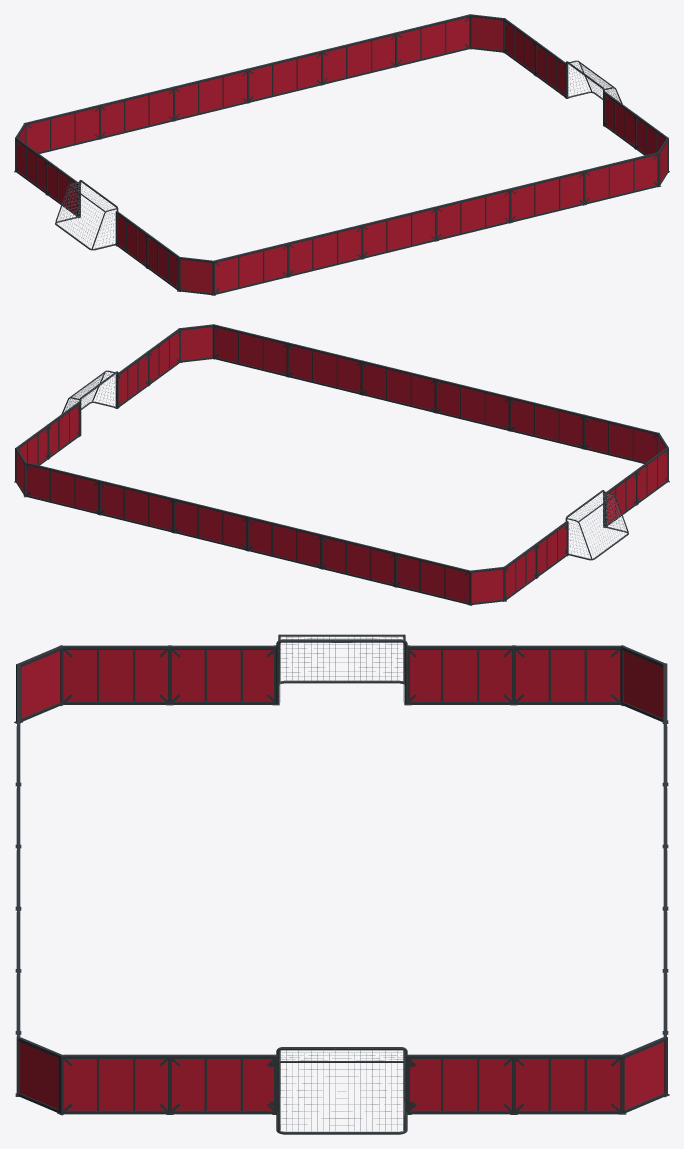
The model's file is street15-r3.glb.
3 views of the same model, one above another, from view 1: azimuth 30°, elevation 25°; view 2: azimuth 150°, elevation 25°; view 3: azimuth 270°, elevation 25° (orthographic). The views are drawn at different scales.
Parts seen in each view (by area): view 1: Panel bandy 110, Panel bandy 38, Panel bandy 10, Panel bandy 31, Panel bandy 45, Panel bandy 24, Panel bandy 17, Panel bandy 138, Panel bandy 117, Panel bandy 124, Panel bandy 131, Panel bandy 145 (+12 smaller); view 2: Panel bandy 110, Panel bandy 138, Panel bandy 45, Panel bandy 145, Panel bandy 131, Panel bandy 124, Panel bandy 117, Panel bandy 17, Panel bandy 24, Panel bandy 38, Panel bandy 31, Panel bandy 10 (+12 smaller); view 3: Panel bandy 90, Panel bandy 190, Panel bandy 165, Panel bandy 65, Panel bandy 183, Panel bandy 172, Panel bandy 72, Panel bandy 83, Bramka wschodnia | siatka 3D, Panel bandy 101, Panel bandy 156, Panel bandy 1 (+4 smaller).
Boxes of the visible parts, left/top/right/bottom form: Panel bandy 110: left=397, top=17, right=469, bottom=64; Panel bandy 38: left=511, top=173, right=583, bottom=219; Panel bandy 10: left=215, top=246, right=287, bottom=292; Panel bandy 31: left=437, top=191, right=509, bottom=238; Panel bandy 45: left=585, top=155, right=657, bottom=201; Panel bandy 24: left=363, top=209, right=435, bottom=256; Panel bandy 17: left=289, top=227, right=361, bottom=274; Panel bandy 138: left=101, top=90, right=172, bottom=136; Panel bandy 117: left=323, top=35, right=394, bottom=82; Panel bandy 124: left=249, top=53, right=320, bottom=100; Panel bandy 131: left=175, top=72, right=246, bottom=118; Panel bandy 145: left=26, top=108, right=98, bottom=152; Panel bandy 110: left=26, top=465, right=98, bottom=511; Panel bandy 138: left=323, top=537, right=394, bottom=584; Panel bandy 45: left=214, top=327, right=286, bottom=373; Panel bandy 145: left=397, top=555, right=468, bottom=602; Panel bandy 131: left=249, top=519, right=320, bottom=565; Panel bandy 124: left=175, top=501, right=246, bottom=547; Panel bandy 117: left=101, top=483, right=172, bottom=529; Panel bandy 17: left=511, top=400, right=582, bottom=446; Panel bandy 24: left=437, top=381, right=508, bottom=428; Panel bandy 38: left=289, top=346, right=360, bottom=392; Panel bandy 31: left=363, top=364, right=434, bottom=410; Panel bandy 10: left=585, top=418, right=657, bottom=462; Panel bandy 90: left=516, top=1059, right=620, bottom=1110; Panel bandy 190: left=516, top=650, right=620, bottom=701; Panel bandy 165: left=63, top=650, right=167, bottom=701; Panel bandy 65: left=64, top=1059, right=167, bottom=1110; Panel bandy 183: left=410, top=650, right=511, bottom=701; Panel bandy 172: left=172, top=650, right=273, bottom=701; Panel bandy 72: left=172, top=1059, right=273, bottom=1110; Panel bandy 83: left=410, top=1059, right=511, bottom=1110; Bramka wschodnia | siatka 3D: left=279, top=1049, right=404, bottom=1131; Panel bandy 101: left=624, top=1042, right=664, bottom=1109; Panel bandy 156: left=623, top=651, right=663, bottom=718; Panel bandy 1: left=21, top=651, right=60, bottom=718.
Bounding box in the file's own units: 16.64 × 1.12 × 10.2.
